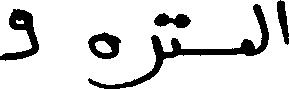X: (121, 9, 161, 88), (0, 4, 37, 65), (90, 27, 119, 88), (255, 0, 266, 59), (243, 1, 253, 60), (276, 0, 288, 49), (172, 9, 179, 62)
